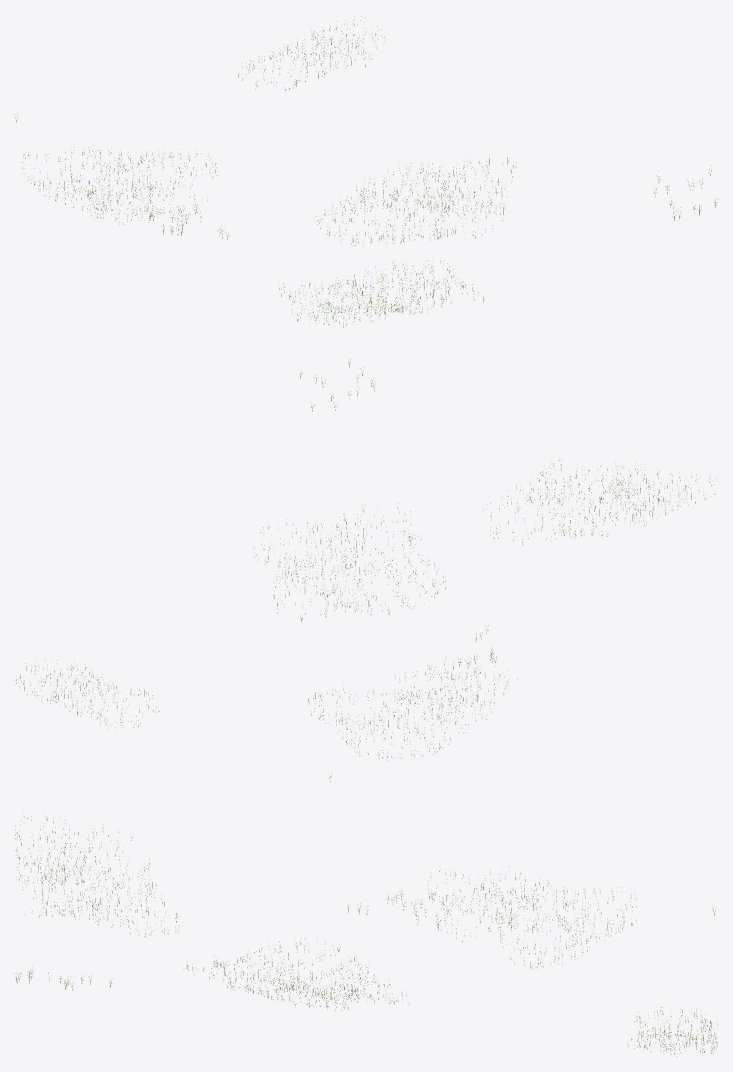
Rendered from GroundCover_16_19.glb.
3 views of the same model, one above another, from view 1: azimuth 30°, elevation 25°; view 2: azimuth 150°, elevation 25°; view 3: azimuth 270°, elevation 25° (orthographic). The views are drawn at different scales.
Parts seen in each view (by area): view 1: GroundCover_16_19; view 2: GroundCover_16_19; view 3: GroundCover_16_19.
Boxes of the visible parts, x1,y1,x2,y2 form: GroundCover_16_19: (15, 16, 718, 327); GroundCover_16_19: (14, 359, 717, 782); GroundCover_16_19: (14, 816, 717, 1056).
Size of the model in its own units: 44.14 by 11.36 by 64.26.
Materials: 1 (1 with a texture image).
